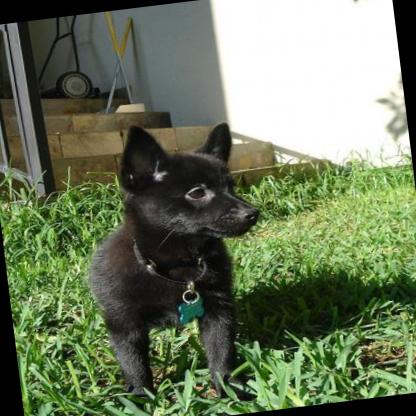schipperke: (62, 107, 284, 416)
